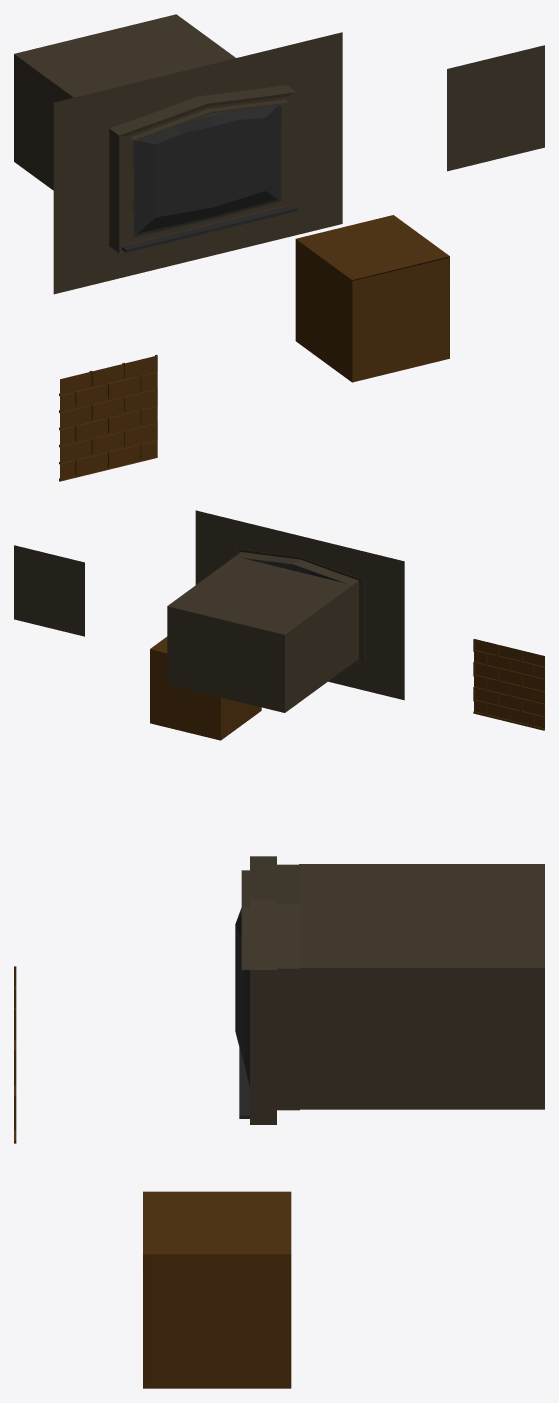
File: FirePlace.fbx
3 views of the same model, one above another, from view 1: azimuth 30°, elevation 25°; view 2: azimuth 150°, elevation 25°; view 3: azimuth 270°, elevation 25° (orthographic). The views are drawn at different scales.
Parts seen in each view (by area): view 1: Plane.001; view 2: Plane.001; view 3: Plane.001.
Boxes of the visible parts, x1,y1,x2,y2 form: Plane.001: (14, 14, 544, 481); Plane.001: (14, 510, 544, 740); Plane.001: (14, 856, 544, 1388).
Bounding box in the file's own units: 1244 × 592 × 716.
